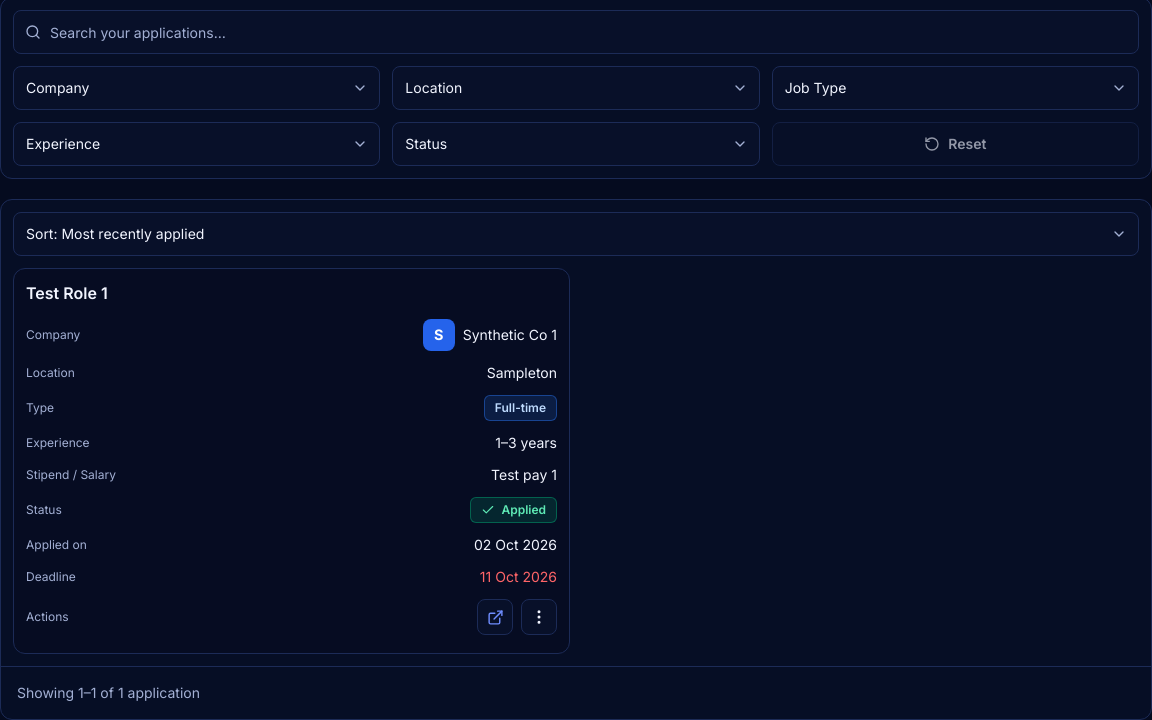
Test: My Applications: updating status › moving back to Not Applied warns, removes the row, and shows the empty state when it was the last one
(page scrolled)
Click the button named "More actions: Test Role 1": point(539, 617) 521,599 -> 557,635
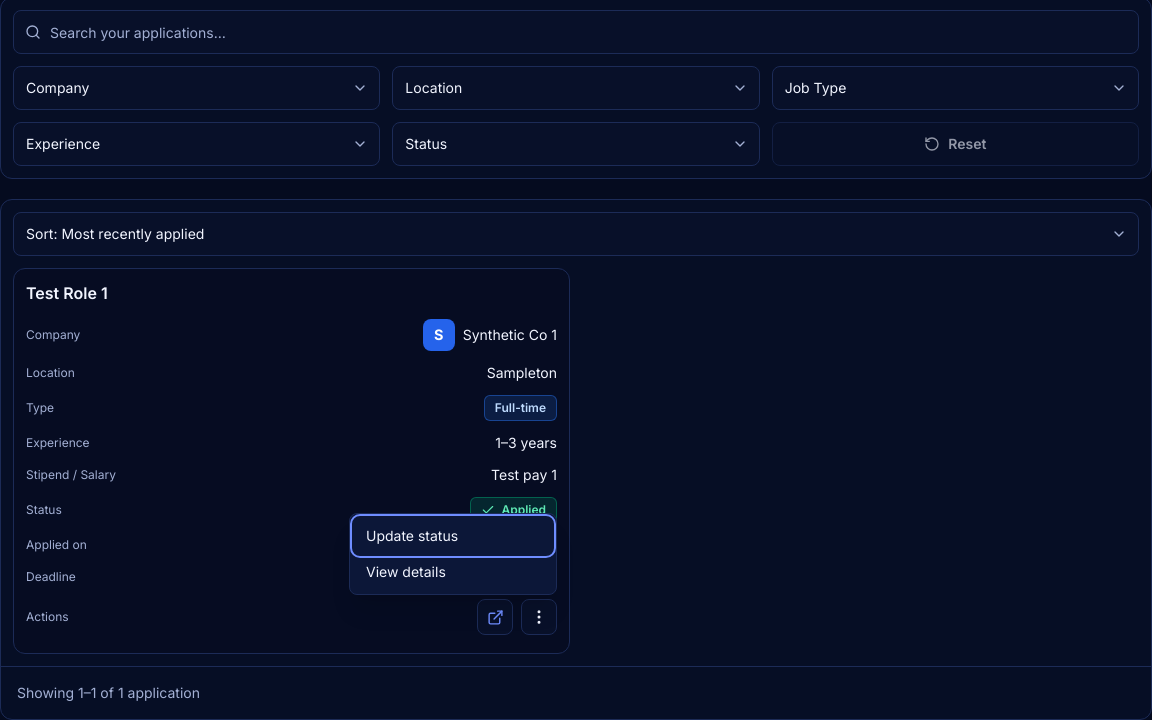
Click the menu item "Update status": point(453, 536) 354,518 -> 552,554
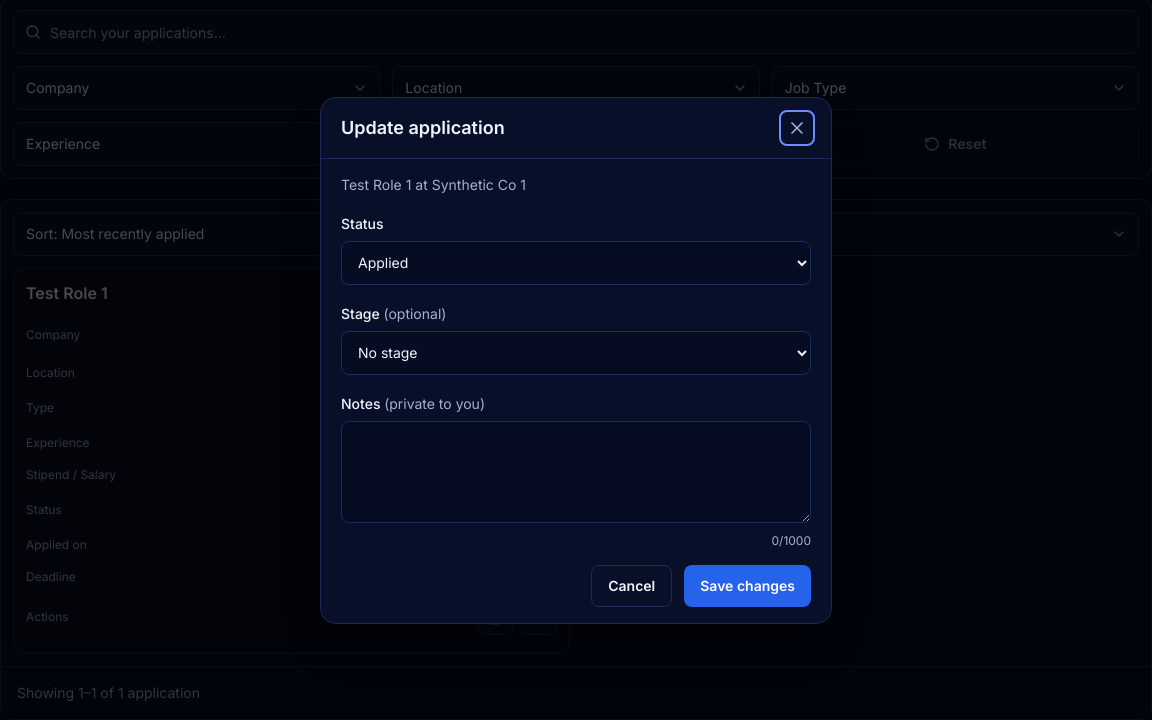
Select "Not Applied" in the dropdown labelled "Status": point(576, 262) 341,240 -> 811,284
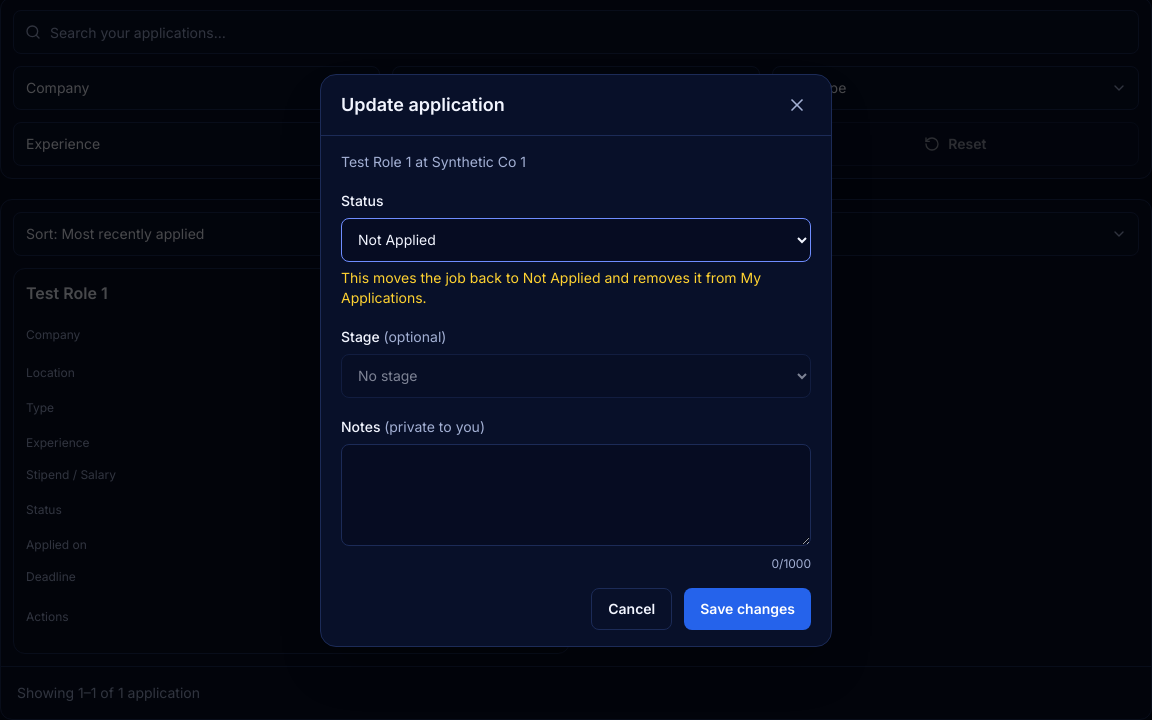
Expected: the text "removes it from My Applications" is shown, 341,268 -> 761,306
Expected: the dropdown labelled "Stage (optional)" is disabled, 341,354 -> 811,398
Click the button "Save changes": point(748, 608) 684,588 -> 811,630
(page scrolled)
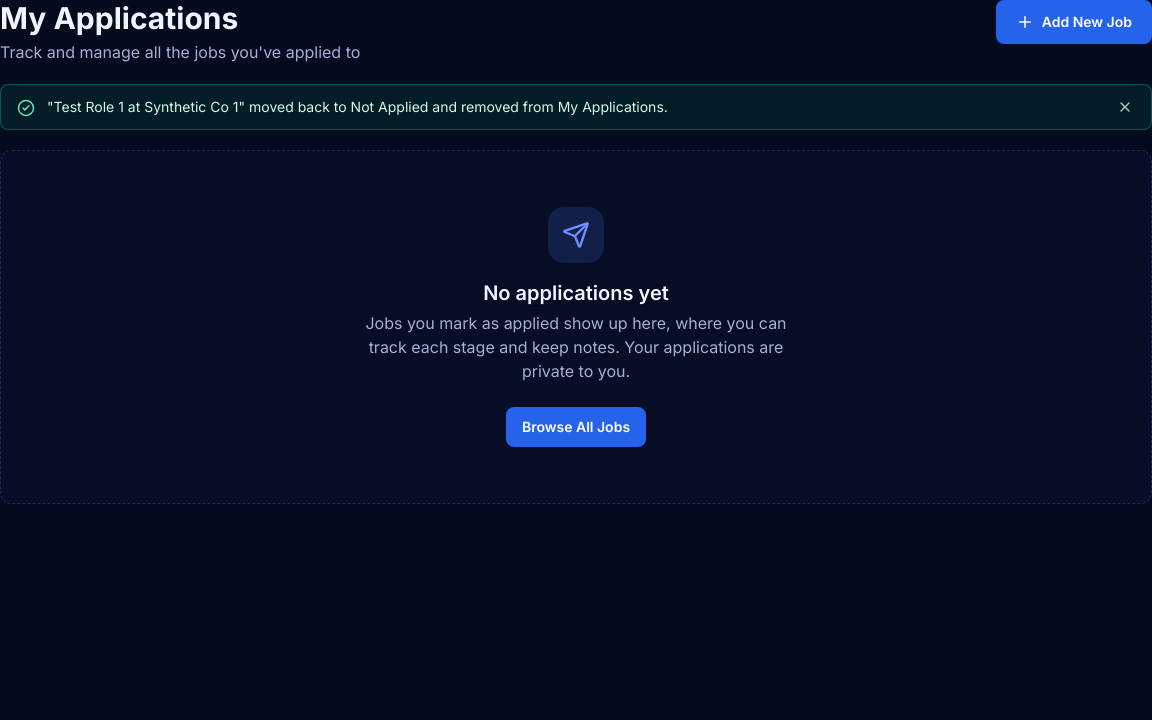
Expected: the heading "No applications yet" is shown, 483,279 -> 669,307
